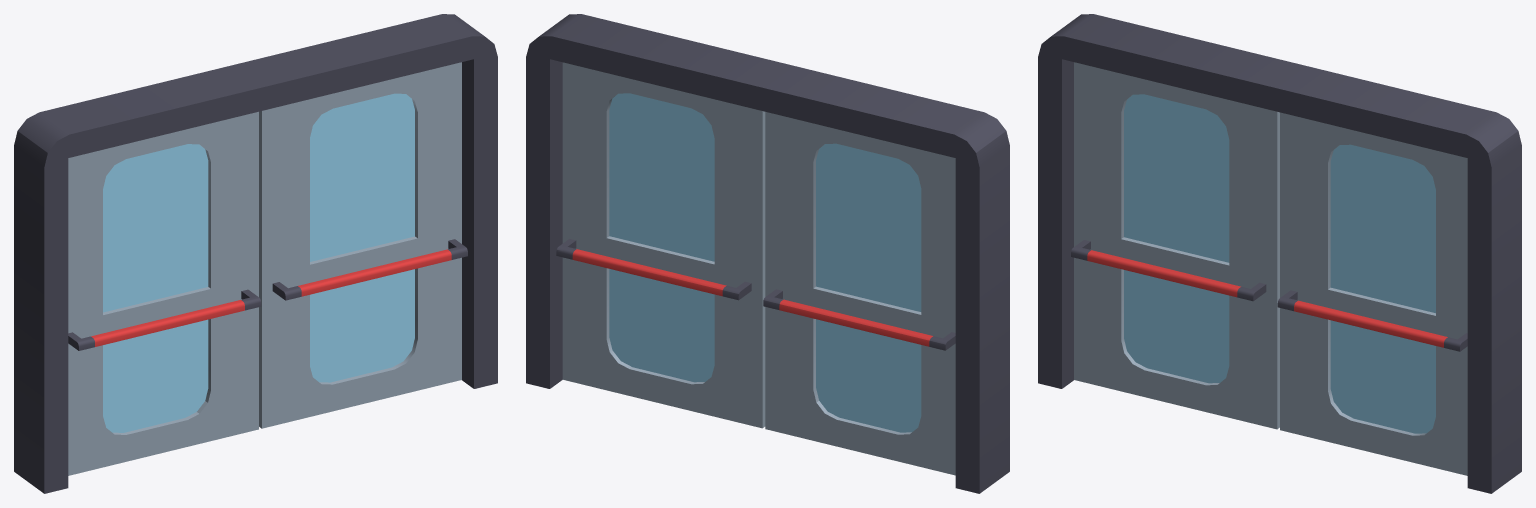
File: marco_puerta.fbx
3 renders of one model, left to right at view 1: azimuth 30°, elevation 25°; view 2: azimuth 150°, elevation 25°; view 3: azimuth 330°, elevation 25°, orthographic.
Parts seen in each view (by area): view 1: puerta_2, puerta_1, marco_puerta; view 2: puerta_2, puerta_1, marco_puerta; view 3: puerta_1, puerta_2, marco_puerta.
Part boxes in pixels (x1,y1,x2,y2): puerta_2: (259,62,467,428); puerta_1: (68,111,261,475); marco_puerta: (14,14,497,493); puerta_2: (556,62,765,428); puerta_1: (763,112,955,475); marco_puerta: (526,14,1009,493); puerta_1: (1071,62,1279,429); puerta_2: (1277,112,1467,475); marco_puerta: (1038,14,1521,493).
Bounding box in the file's own units: 700 × 521 × 83.91.
